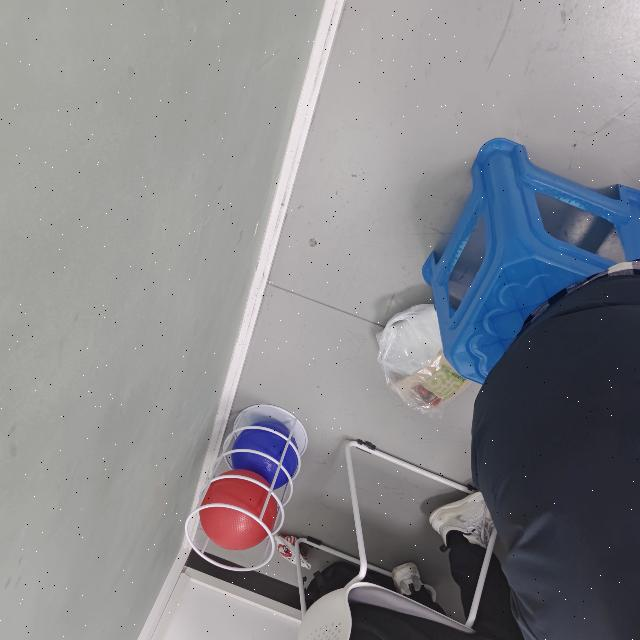B: (229, 419, 301, 486)
R: (196, 472, 278, 550)
S: (190, 405, 292, 551)
